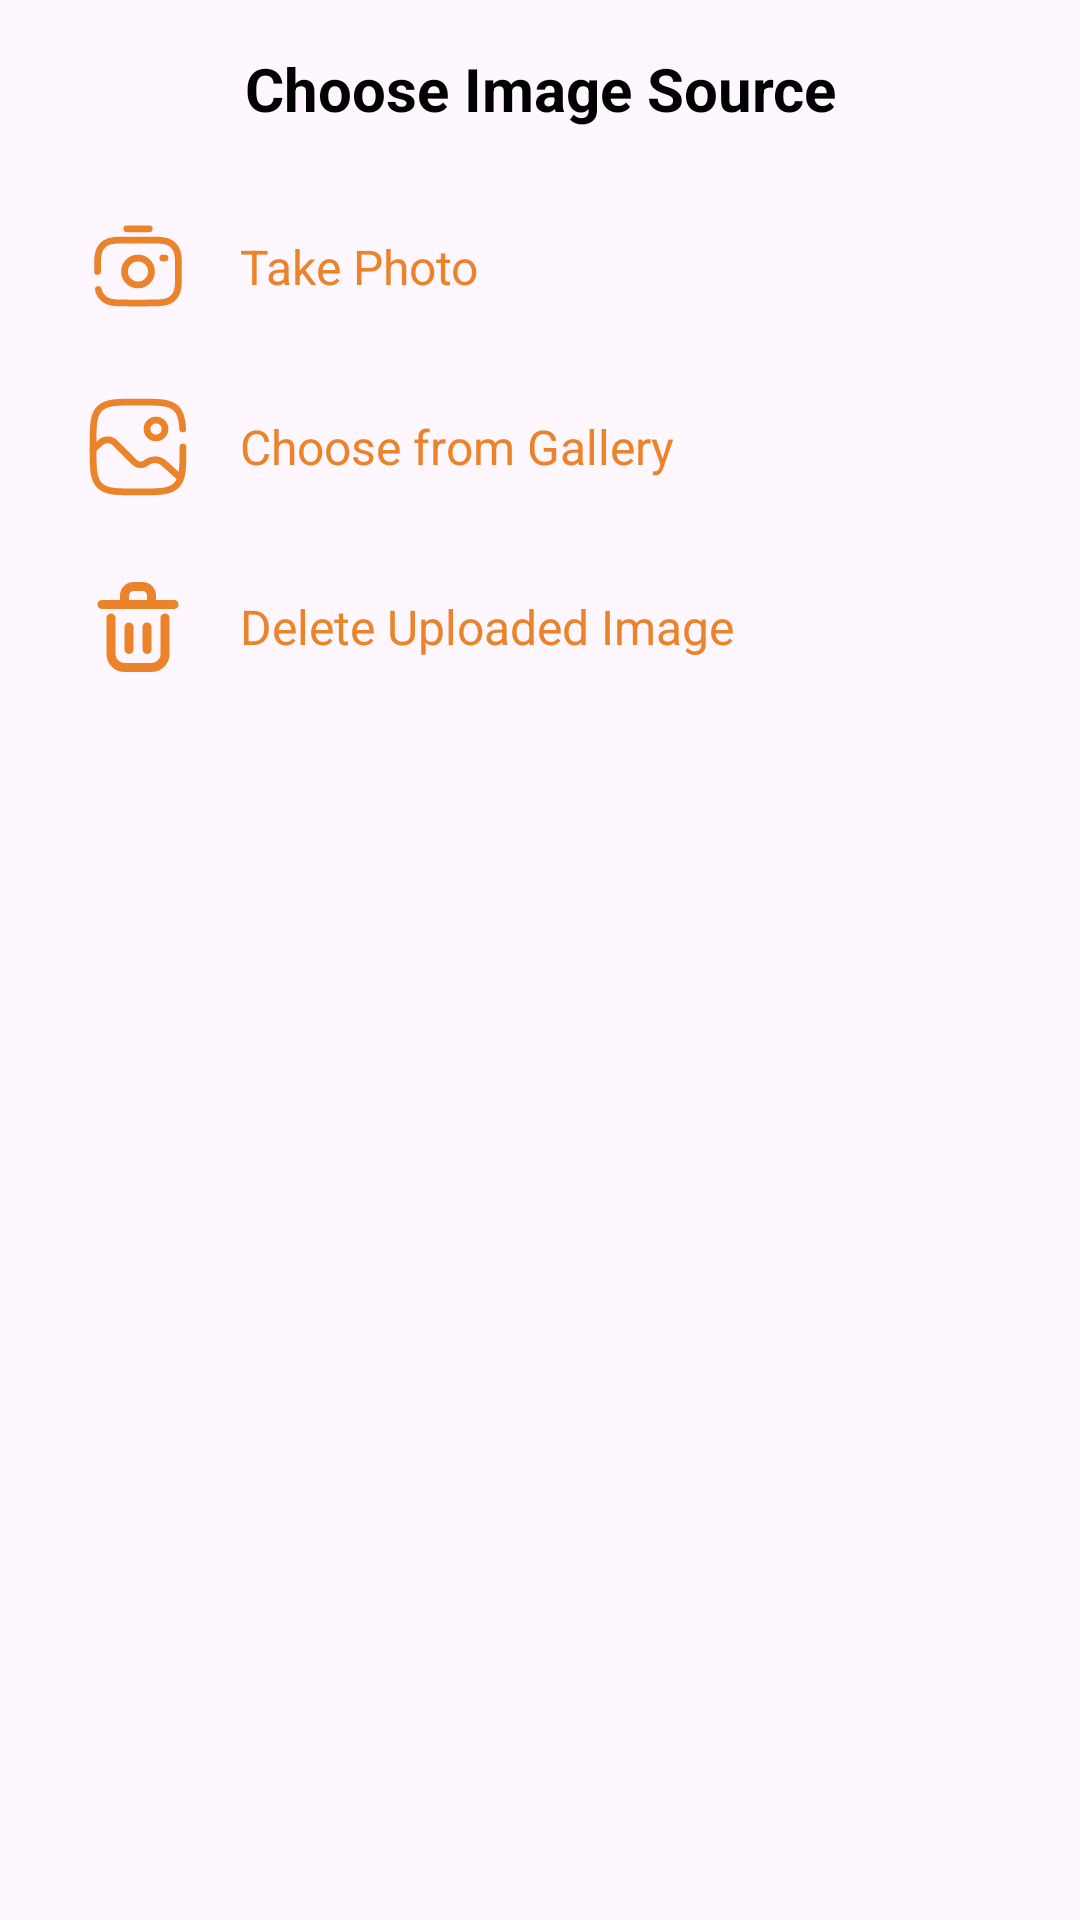

Named icons in this screenshot (1080px×1920px) and their centers, point (x, y):
Camera: point (138, 266)
